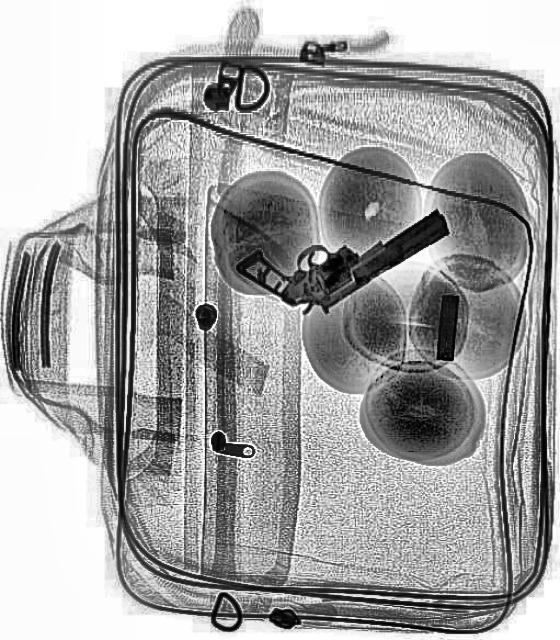Gun: (234, 158, 456, 342)
